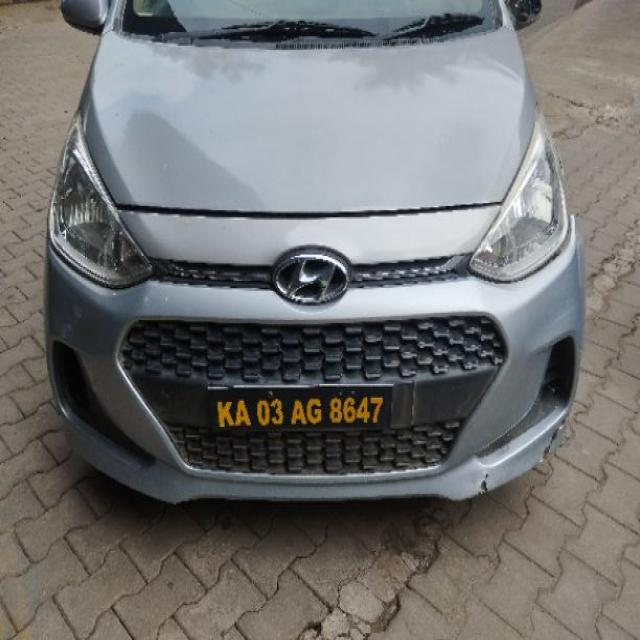license_plate: (43, 0, 587, 506), (205, 382, 394, 432)
